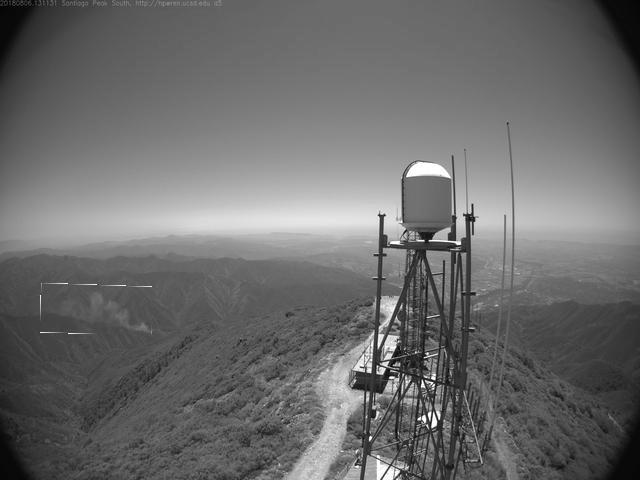smoke: (42, 285, 154, 336)
